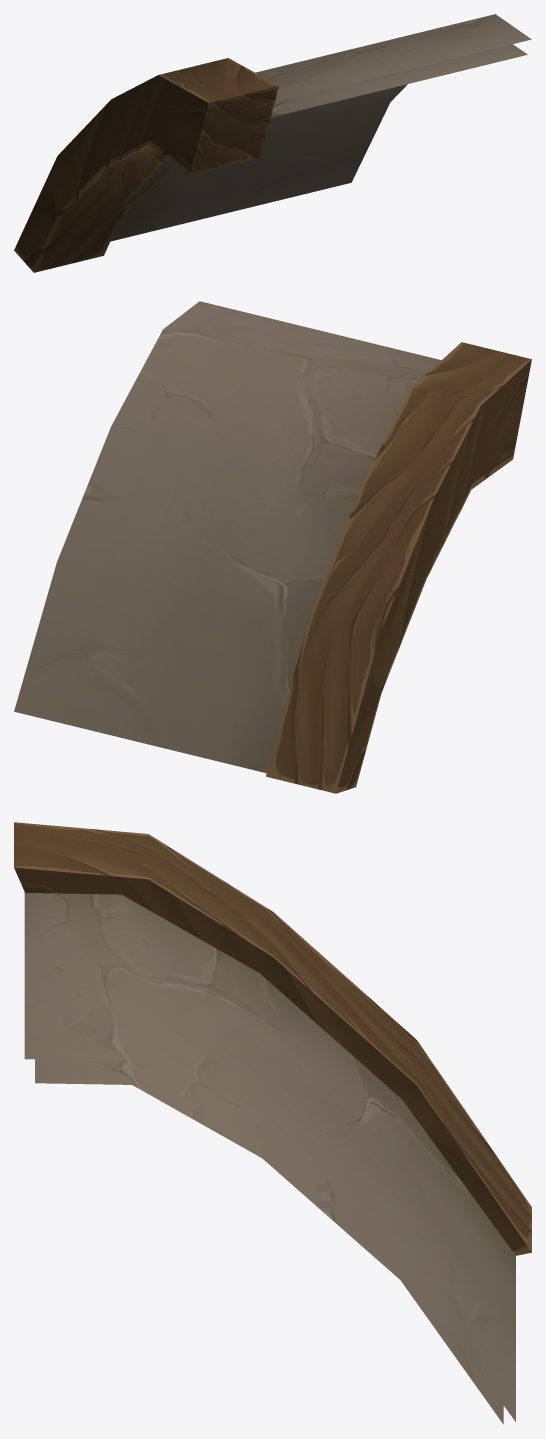
File: Ceiling_1_5.FBX
3 views of the same model, one above another, from view 1: azimuth 30°, elevation 25°; view 2: azimuth 150°, elevation 25°; view 3: azimuth 270°, elevation 25° (orthographic). The views are drawn at different scales.
Parts seen in each view (by area): view 1: Ceiling_1_5; view 2: Ceiling_1_5; view 3: Ceiling_1_5.
Boxes of the visible parts, x1=… form: Ceiling_1_5: x1=14, y1=14, x2=531, y2=272; Ceiling_1_5: x1=14, y1=301, x2=531, y2=793; Ceiling_1_5: x1=14, y1=822, x2=531, y2=1424.
Size of what is drawn, in the model's own units: 112 by 116 by 97.54.
